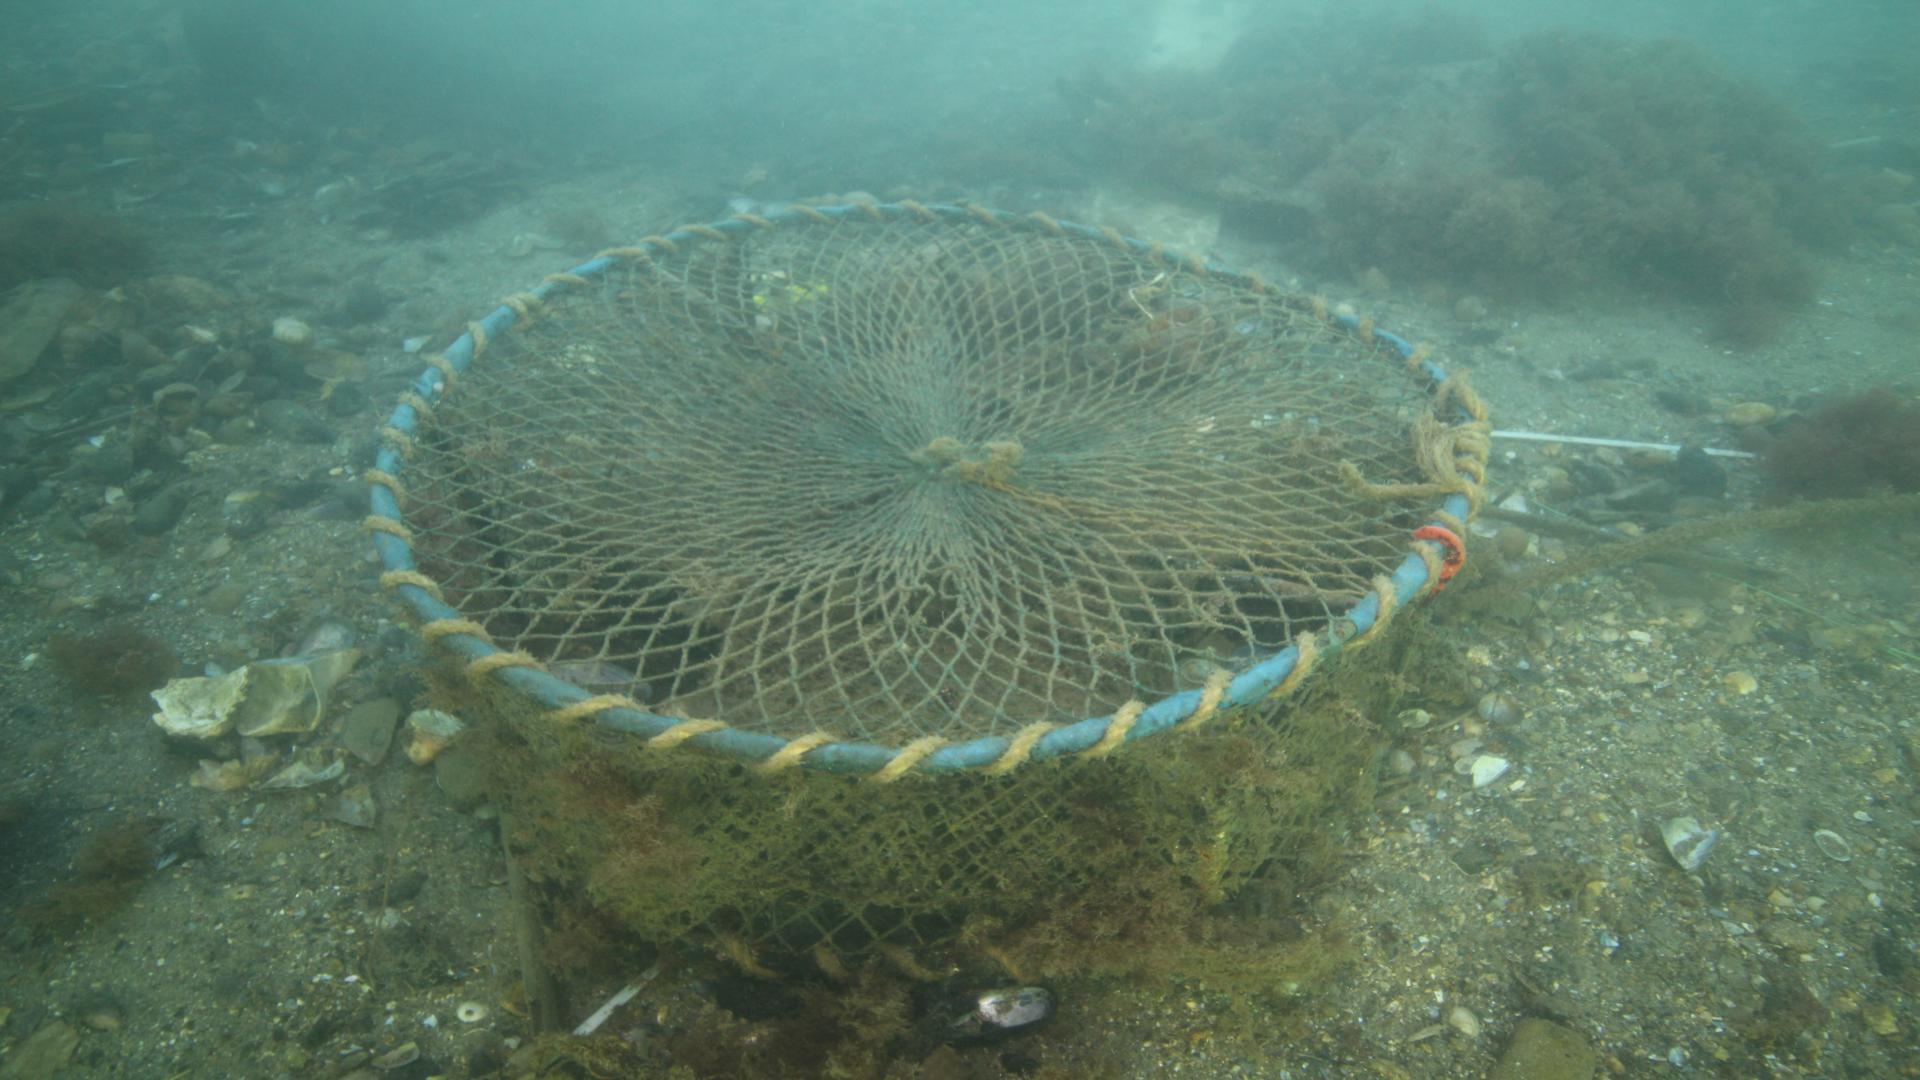circular fish trap: (360, 195, 1491, 980)
